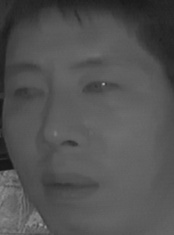eye: (83, 75, 124, 98), (9, 81, 44, 104)
mouth: (39, 164, 102, 206)
